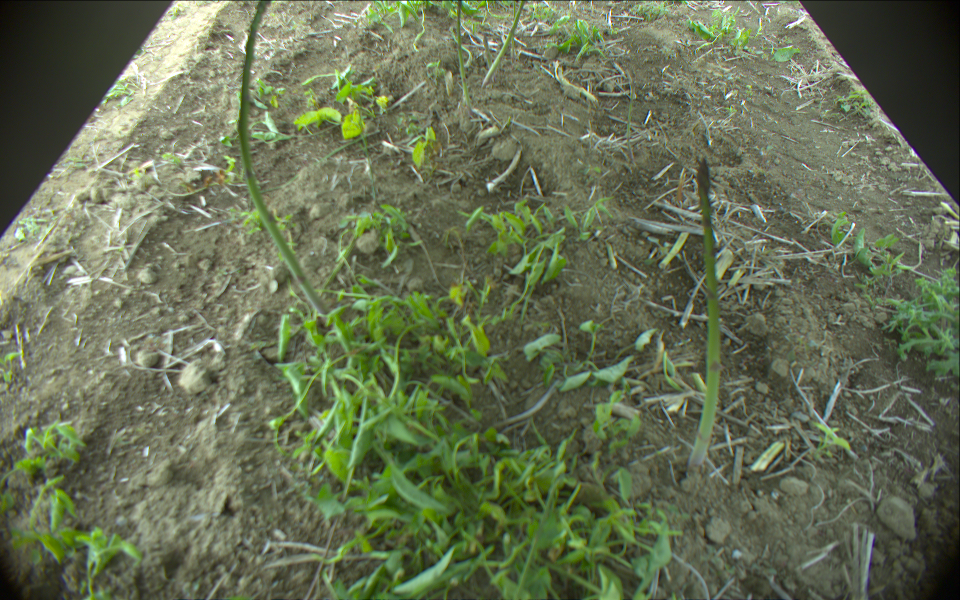aspa: (235, 1, 331, 319), (688, 158, 720, 472), (481, 1, 526, 89), (456, 1, 471, 108), (481, 34, 494, 68)
